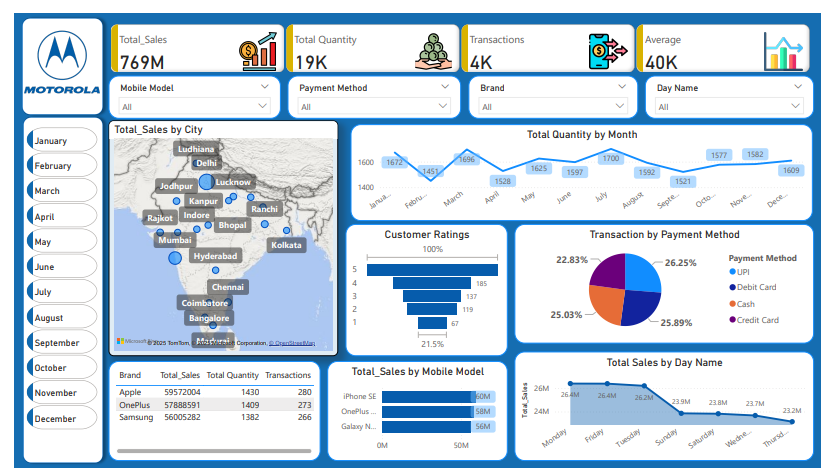

This screenshot's page, from the dashboard's own definition file:
{"tool":"powerbi","page":{"name":"Page 1","canvas":[1280,720],"ordinal":0},"visuals":[{"type":"shape","box":[5,0,144.5,169.7],"z":0},{"type":"image","box":[8.4,13.4,136.1,127.7],"z":1000},{"type":"shape","box":[5.7,155.7,144.3,564.3],"z":2000},{"type":"advancedSlicerVisual","fields":{"Values":["Sales_Data.Date.Variation.Date Hierarchy.Month"]},"box":[15.1,176.4,122.6,492.2],"z":3000},{"type":"cardVisual","fields":{"Data":["Sales_Data.Total_Sales","Sales_Data.Total Quantity","Sales_Data.Transactions","Sales_Data.Average"]},"box":[148.6,12.9,1118.6,85.7],"z":4000},{"type":"map","fields":{"Category":["Sales_Data.City"],"Size":["Sales_Data.Total_Sales"]},"box":[150,170,364.3,372.9],"z":5000},{"type":"lineChart","fields":{"Category":["Sales_Data.Date.Variation.Date Hierarchy.Month","Sales_Data.Date.Variation.Date Hierarchy.Day"],"Y":["Sales_Data.Total Quantity"]},"box":[534.3,175.7,732.9,152.9],"z":6000},{"type":"clusteredBarChart","fields":{"Category":["Sales_Data.Mobile Model"],"Y":["Sales_Data.Total_Sales"]},"box":[497.1,551.4,285.7,157.1],"z":7000},{"type":"pieChart","title":"Transaction by Payment Method","fields":{"Y":["CountNonNull(Sales_Data.Transaction ID)"],"Category":["Sales_Data.Payment Method"]},"box":[794.3,334.3,474.3,188.6],"z":8000},{"type":"funnel","title":" Customer Ratings","fields":{"Category":["Sales_Data.Customer Ratings"],"Y":["CountNonNull(Sales_Data.Customer Ratings)"]},"box":[525.7,334.3,257.1,208.6],"z":9000},{"type":"areaChart","title":"Total Sales by Day Name","fields":{"Category":["Sales_Data.Day Name"],"Y":["Sales_Data.Total_Sales"]},"box":[794.3,535.7,474.3,172.9],"z":10000},{"type":"tableEx","fields":{"Values":["Sales_Data.Brand","Sales_Data.Total_Sales","Sales_Data.Total Quantity","Sales_Data.Transactions"]},"box":[150,551.4,335.7,157.1],"z":11000},{"type":"slicer","fields":{"Values":["Sales_Data.Mobile Model"]},"box":[150,98.6,272.9,68.6],"z":12000},{"type":"slicer","fields":{"Values":["Sales_Data.Payment Method"]},"box":[434.3,98.6,274.3,68.6],"z":13000},{"type":"slicer","fields":{"Values":["Sales_Data.Brand"]},"box":[721.4,98.6,268.6,68.6],"z":14000},{"type":"slicer","fields":{"Values":["Sales_Data.Day Name"]},"box":[1001.4,98.6,267.1,68.6],"z":15000}]}

Visuals, with their boxes in screenshot pixels (x1, y1, x2, y2), scaled from the page's 1280x720 canvas onto the 834x476 screenshot:
shape: left=3, top=0, right=97, bottom=112
image: left=5, top=9, right=94, bottom=93
shape: left=4, top=103, right=98, bottom=475
advancedSlicerVisual - Sales_Data.Date.Variation.Date Hierarchy.Month: left=10, top=117, right=90, bottom=442
cardVisual - Sales_Data.Total_Sales x Sales_Data.Total Quantity: left=97, top=9, right=826, bottom=65
map - Sales_Data.City x Sales_Data.Total_Sales: left=98, top=112, right=335, bottom=359
lineChart - Sales_Data.Date.Variation.Date Hierarchy.Month x Sales_Data.Date.Variation.Date Hierarchy.Day: left=348, top=116, right=826, bottom=217
clusteredBarChart - Sales_Data.Mobile Model x Sales_Data.Total_Sales: left=324, top=365, right=510, bottom=468
"Transaction by Payment Method" pieChart: left=518, top=221, right=827, bottom=346
" Customer Ratings" funnel: left=343, top=221, right=510, bottom=359
"Total Sales by Day Name" areaChart: left=518, top=354, right=827, bottom=468
tableEx - Sales_Data.Brand x Sales_Data.Total_Sales: left=98, top=365, right=316, bottom=468
slicer - Sales_Data.Mobile Model: left=98, top=65, right=276, bottom=111
slicer - Sales_Data.Payment Method: left=283, top=65, right=462, bottom=111
slicer - Sales_Data.Brand: left=470, top=65, right=645, bottom=111
slicer - Sales_Data.Day Name: left=652, top=65, right=827, bottom=111
